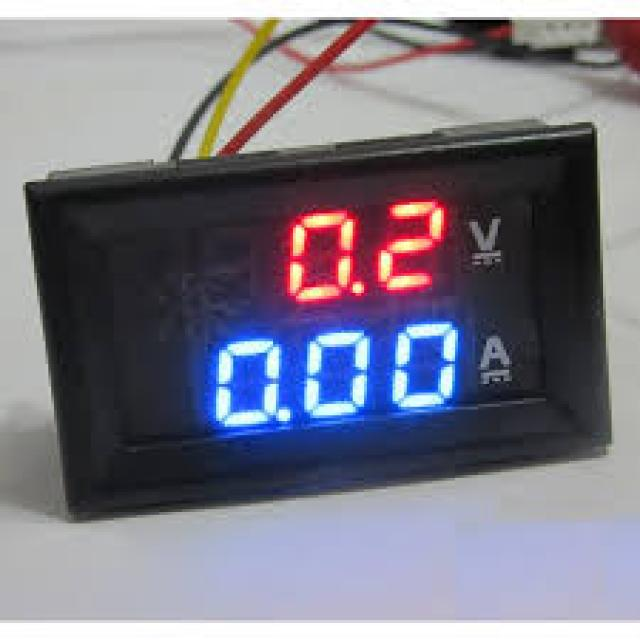.: (278, 406, 291, 422), (353, 280, 365, 296)
0: (274, 190, 367, 307), (213, 338, 280, 432), (391, 320, 459, 411), (304, 329, 370, 411)
2: (377, 183, 469, 296)
screen: (103, 193, 557, 451)
